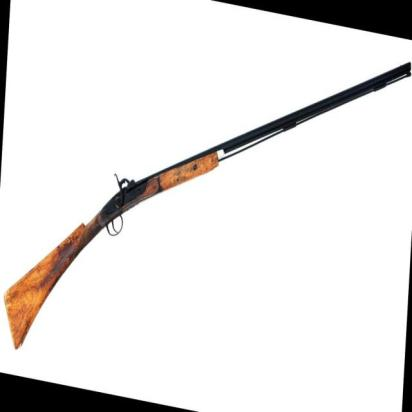Gun: (9, 58, 411, 352)
